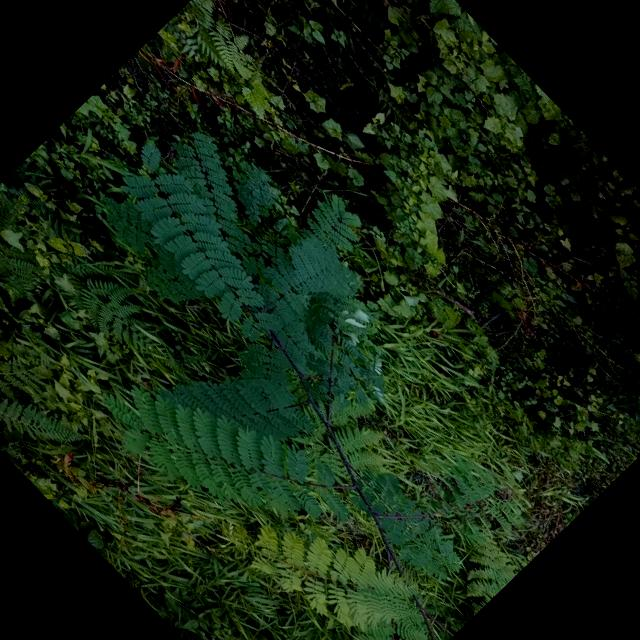Mysore-Thorn-Weed: (0, 55, 618, 640)
